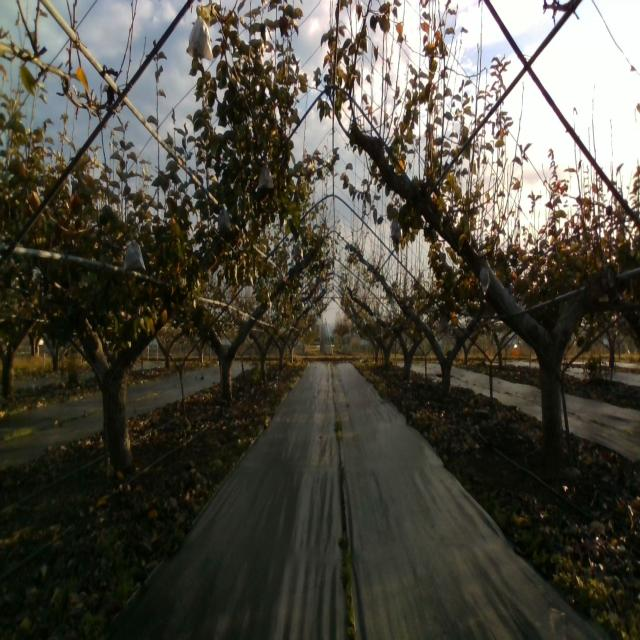pearbags: (188, 5, 214, 61), (123, 234, 146, 274), (258, 158, 274, 190), (478, 266, 490, 297), (218, 207, 232, 233), (391, 218, 403, 242)
